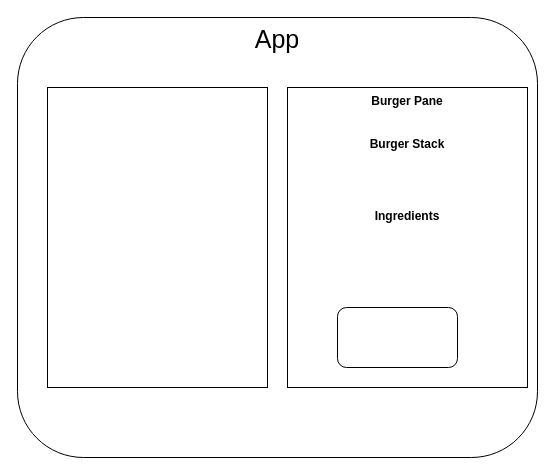
Image size: 555x475. Some labels were removed from this diagram. The shapes that lost their labels are listed below. From the top down, each one's centre as x and y in pixels, then its label:
At point (157, 237): "Ingredient list Ingredients".
At point (397, 337): "Clear Button".
